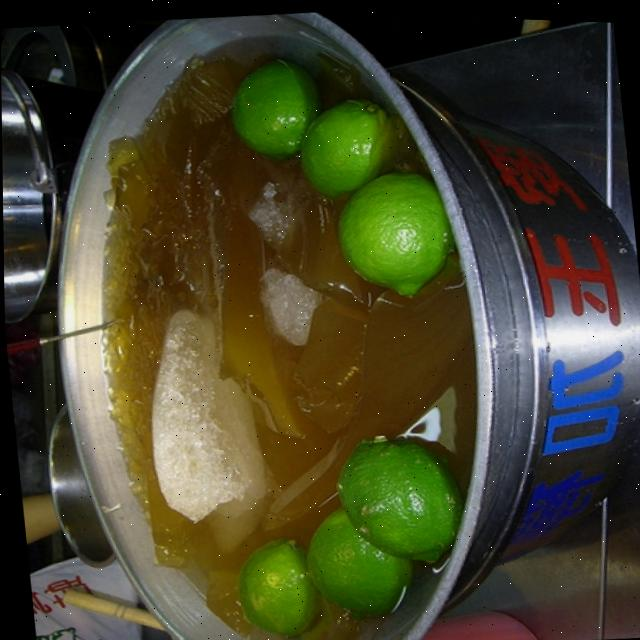蛋糕甜品: (39, 1, 547, 640)
